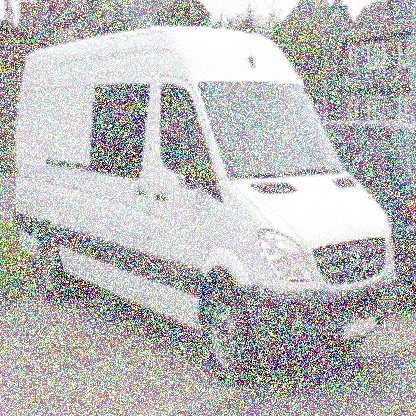Vehicle: (16, 26, 398, 383)
